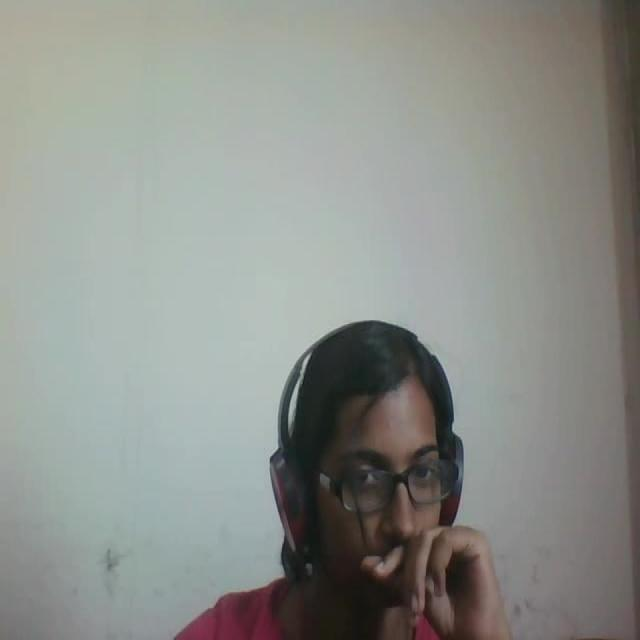Bored: (246, 296, 533, 640)
